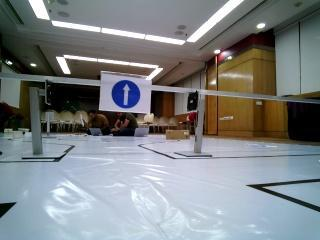straight: (102, 68, 149, 114)
